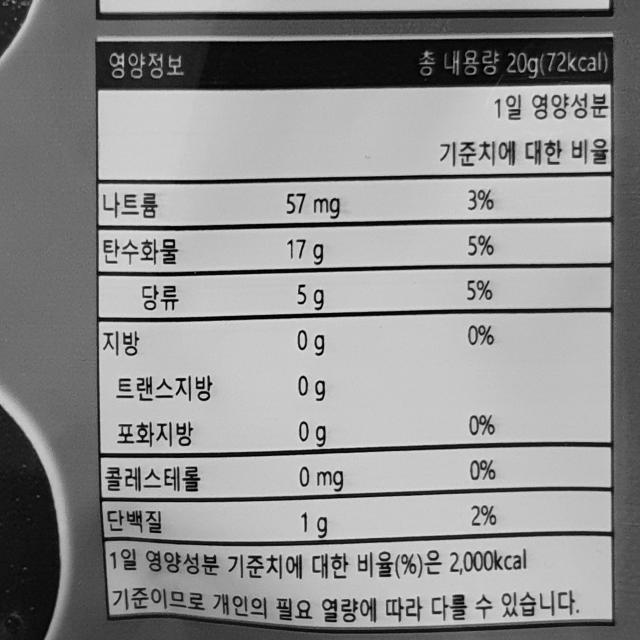Nutrition Label: (88, 26, 619, 627)
